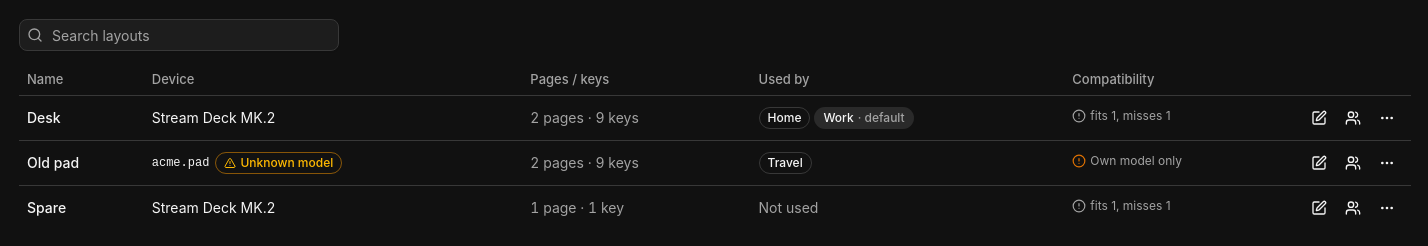
Scenario: Layouts page › searches by name
In the field labelled "Search layouts": (179, 35) [19,19,339,51], type "spa"
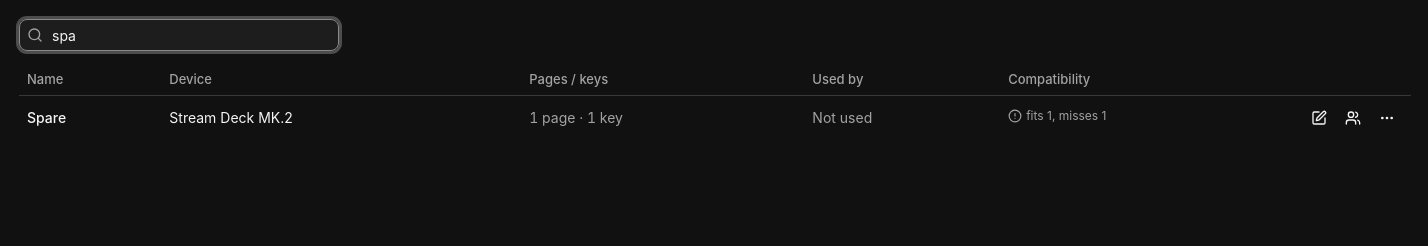
Check: the cell "Spare" is shown, box [19,95,161,140]
Check: the number of rows is 2, box [19,63,1411,95]; [19,95,1411,140]
